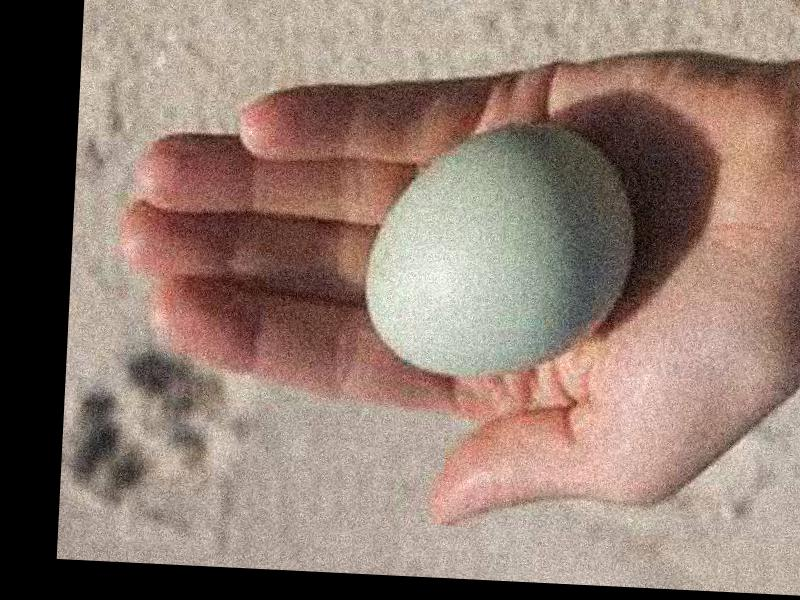Eggs: (367, 115, 634, 378)
